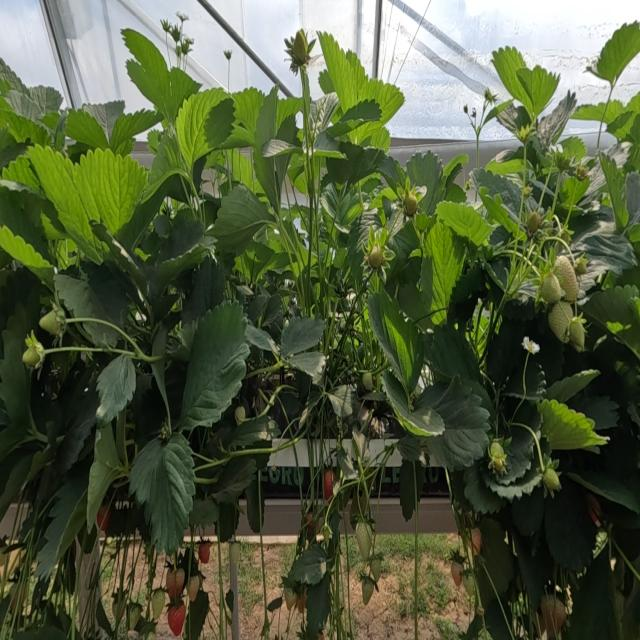Flowers: (522, 337, 539, 355), (160, 19, 171, 32), (176, 12, 187, 24), (224, 50, 231, 61)
Leaves: (180, 301, 249, 429), (28, 146, 103, 260), (38, 368, 99, 506), (130, 433, 195, 554), (74, 149, 147, 242), (55, 263, 130, 346), (35, 464, 90, 577), (568, 427, 639, 513), (429, 377, 490, 470), (0, 179, 55, 279), (368, 292, 421, 389), (565, 548, 621, 639), (545, 476, 596, 572), (176, 88, 234, 171), (210, 184, 272, 255), (123, 30, 170, 122), (0, 315, 30, 459), (151, 220, 210, 290), (421, 221, 461, 324), (571, 220, 636, 279), (318, 32, 365, 113), (86, 423, 121, 530), (475, 516, 513, 613), (385, 374, 443, 435), (253, 87, 282, 209), (539, 399, 605, 451), (482, 427, 534, 491), (492, 46, 532, 119), (513, 535, 552, 609), (429, 325, 479, 382), (182, 259, 226, 323), (96, 355, 135, 426), (216, 149, 266, 202), (597, 22, 639, 85), (326, 142, 389, 184), (517, 65, 559, 124), (2, 92, 48, 145), (528, 319, 564, 386), (583, 285, 639, 328), (487, 318, 524, 382), (437, 202, 491, 245), (405, 151, 442, 213), (450, 264, 487, 321), (538, 91, 575, 147), (211, 456, 255, 503), (360, 78, 403, 126), (110, 110, 158, 153), (321, 184, 363, 232), (477, 170, 521, 215), (464, 463, 502, 513), (82, 100, 125, 143), (149, 133, 182, 188), (281, 316, 323, 358), (504, 360, 546, 402), (333, 100, 381, 136), (546, 370, 599, 402), (228, 414, 279, 447), (570, 396, 618, 430), (512, 487, 545, 536), (306, 572, 330, 639), (66, 108, 107, 147), (289, 545, 327, 585), (169, 68, 200, 117), (348, 209, 380, 255), (233, 88, 263, 137), (388, 222, 419, 269), (151, 359, 171, 431), (400, 460, 424, 519), (309, 92, 339, 136), (250, 295, 283, 334), (572, 100, 624, 124), (397, 282, 425, 320), (234, 250, 263, 286), (485, 148, 523, 175), (289, 351, 325, 379), (378, 155, 405, 190), (497, 106, 531, 133), (29, 86, 61, 114), (276, 96, 302, 129), (246, 325, 277, 352), (246, 480, 262, 532), (328, 385, 354, 417), (625, 172, 640, 222), (261, 252, 290, 274), (397, 435, 421, 460), (262, 139, 295, 156), (314, 131, 340, 151), (153, 331, 166, 350), (508, 372, 511, 376)
Strawberries: (283, 29, 314, 78), (554, 254, 577, 301), (542, 595, 566, 637), (548, 303, 571, 342), (540, 274, 562, 303), (166, 568, 183, 604), (356, 523, 372, 560), (168, 603, 185, 635), (489, 442, 506, 471), (112, 587, 125, 624), (568, 320, 584, 350), (151, 589, 166, 619), (543, 467, 559, 492), (22, 345, 40, 367), (367, 245, 383, 267), (361, 578, 374, 604), (324, 470, 335, 500), (128, 604, 141, 629), (403, 193, 417, 215), (187, 576, 199, 600), (198, 542, 211, 563), (527, 213, 539, 235), (284, 588, 296, 609), (370, 559, 381, 580), (451, 562, 460, 587), (230, 541, 239, 565), (362, 372, 373, 391), (235, 406, 246, 424), (577, 256, 587, 275), (297, 596, 305, 612)
